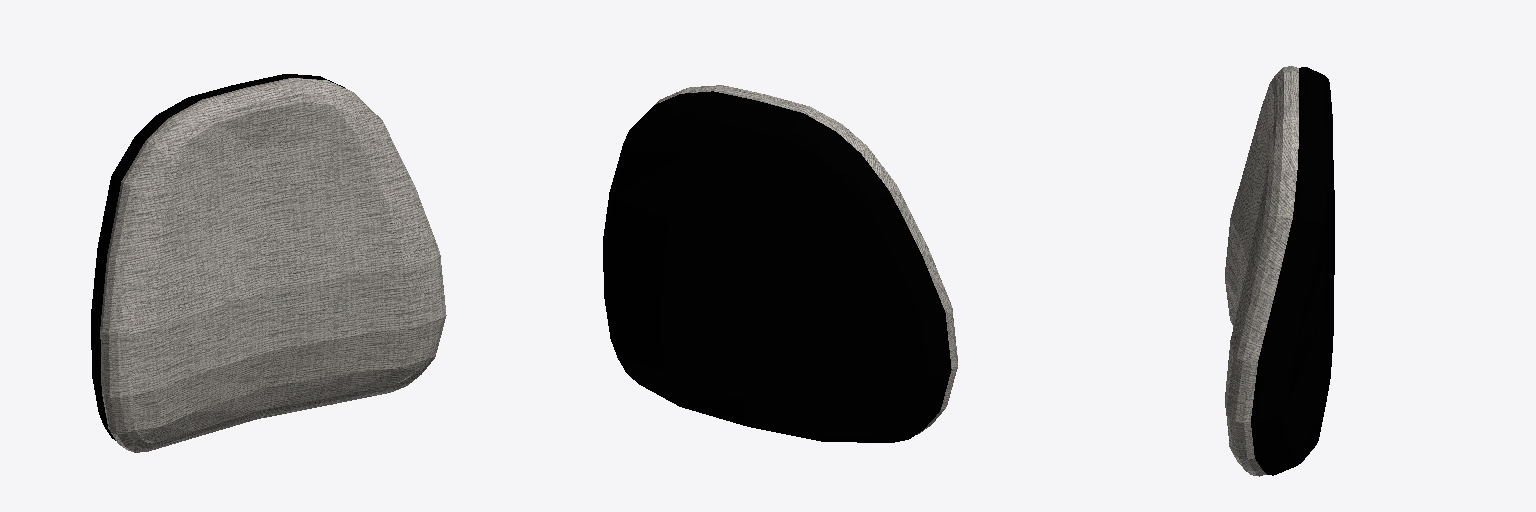
The picture shows the model from 3 angles: view 1: azimuth 30°, elevation 25°; view 2: azimuth 150°, elevation 25°; view 3: azimuth 270°, elevation 25°; orthographic projection.
Parts seen in each view (by area): view 1: part6:backrest 1; view 2: part6:backrest 1; view 3: part6:backrest 1.
Boxes of the visible parts, box(x1,y1,x2,y2) form: part6:backrest 1: box(91, 74, 446, 452); part6:backrest 1: box(603, 85, 957, 442); part6:backrest 1: box(1225, 66, 1334, 476).
Bounding box in the file's own units: 0.3594 × 0.33 × 0.1013.
2 materials, 1 textured.